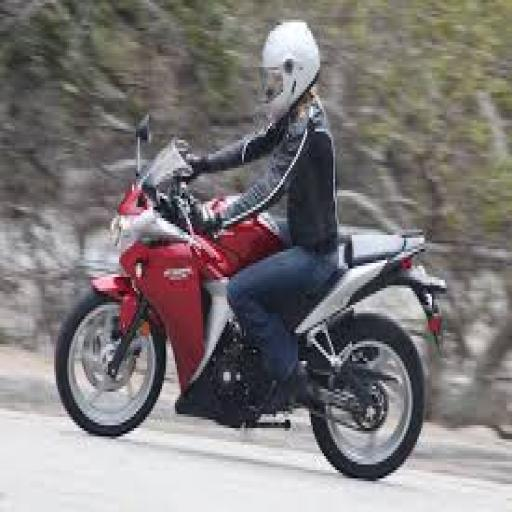helmet: (52, 109, 449, 481), (179, 17, 339, 414), (257, 17, 320, 123)
